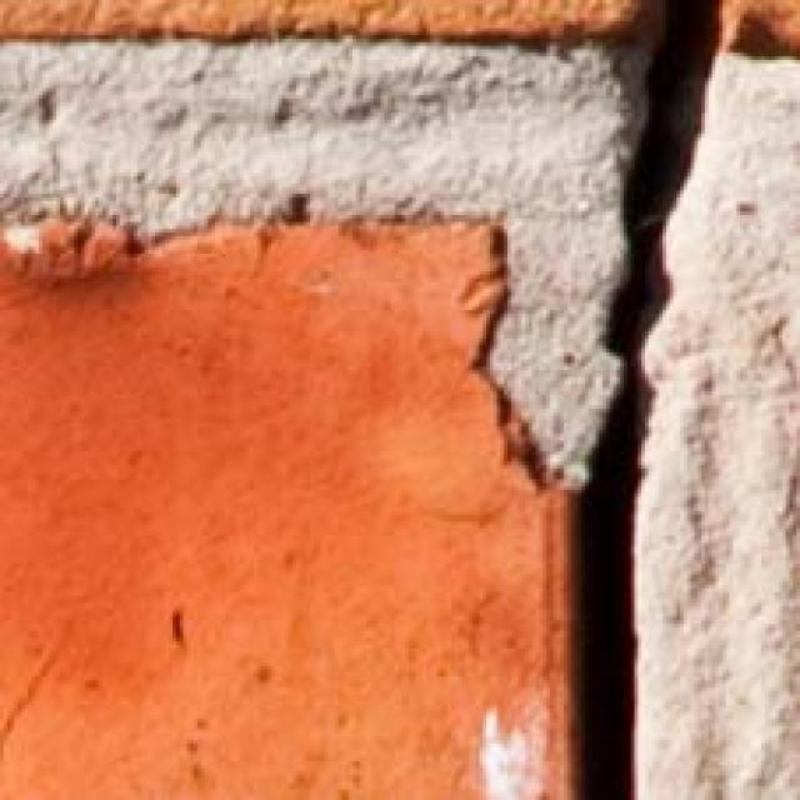crack: (580, 0, 720, 799)
